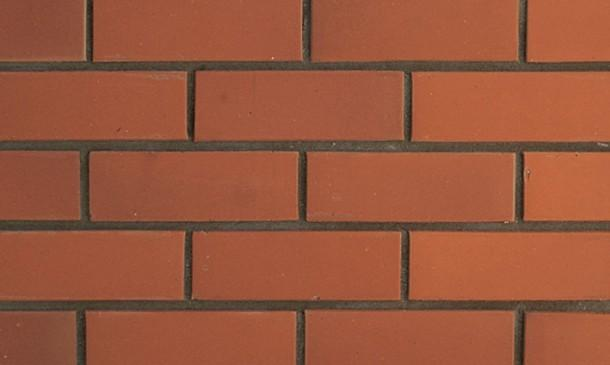Bricks: (309, 149, 515, 223), (92, 150, 300, 221), (194, 232, 399, 302), (197, 71, 403, 138), (412, 231, 610, 300), (0, 71, 187, 142), (415, 72, 610, 140), (311, 0, 517, 62), (94, 1, 300, 62), (0, 232, 182, 298), (305, 310, 515, 365), (85, 312, 297, 364), (526, 152, 610, 223), (0, 152, 81, 220), (0, 0, 86, 61), (526, 2, 610, 59), (526, 312, 610, 365), (2, 312, 77, 365)
